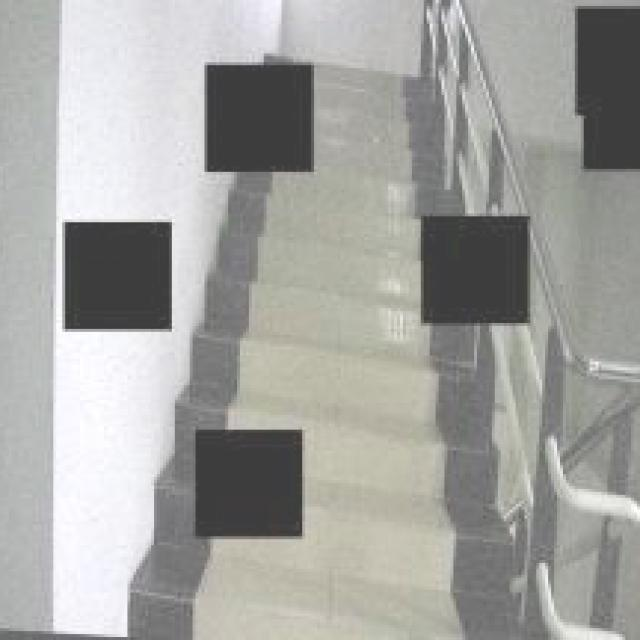upstair: (241, 205, 410, 413)
